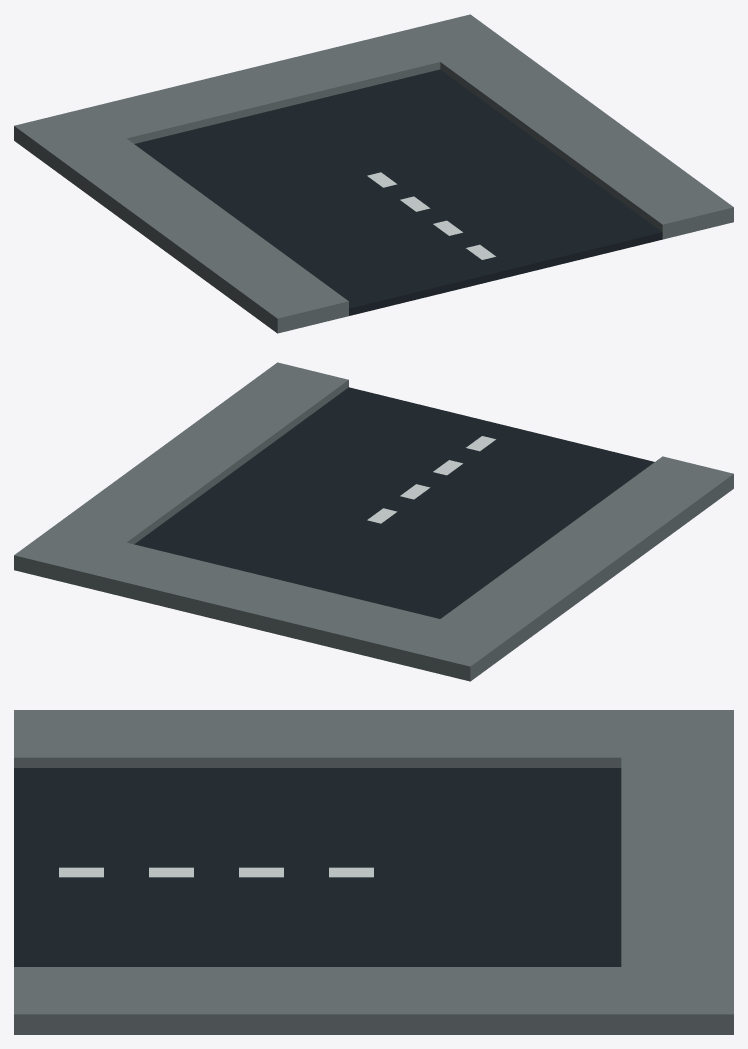
The model's file is RoadEnd270.obj.
3 views of the same model, one above another, from view 1: azimuth 30°, elevation 25°; view 2: azimuth 150°, elevation 25°; view 3: azimuth 270°, elevation 25° (orthographic). The views are drawn at different scales.
Bounding box in the file's own units: 6.4 × 0.2 × 6.4.
1 material, 1 textured.
